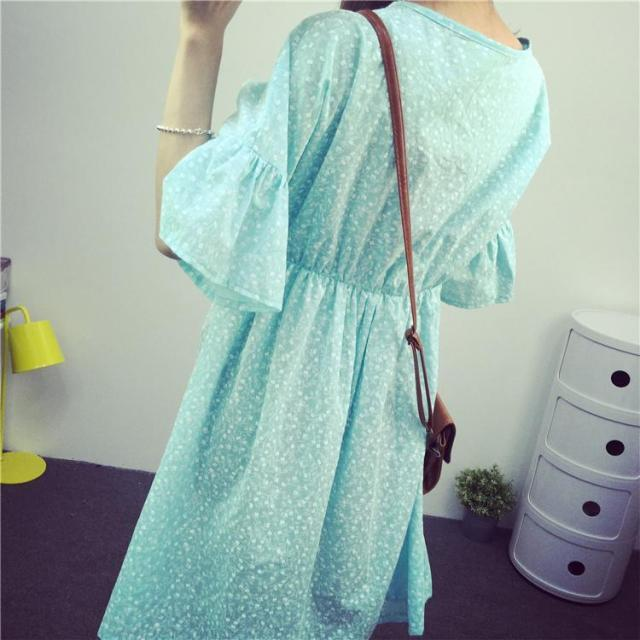short-sleeve-dress: (164, 11, 503, 636)
